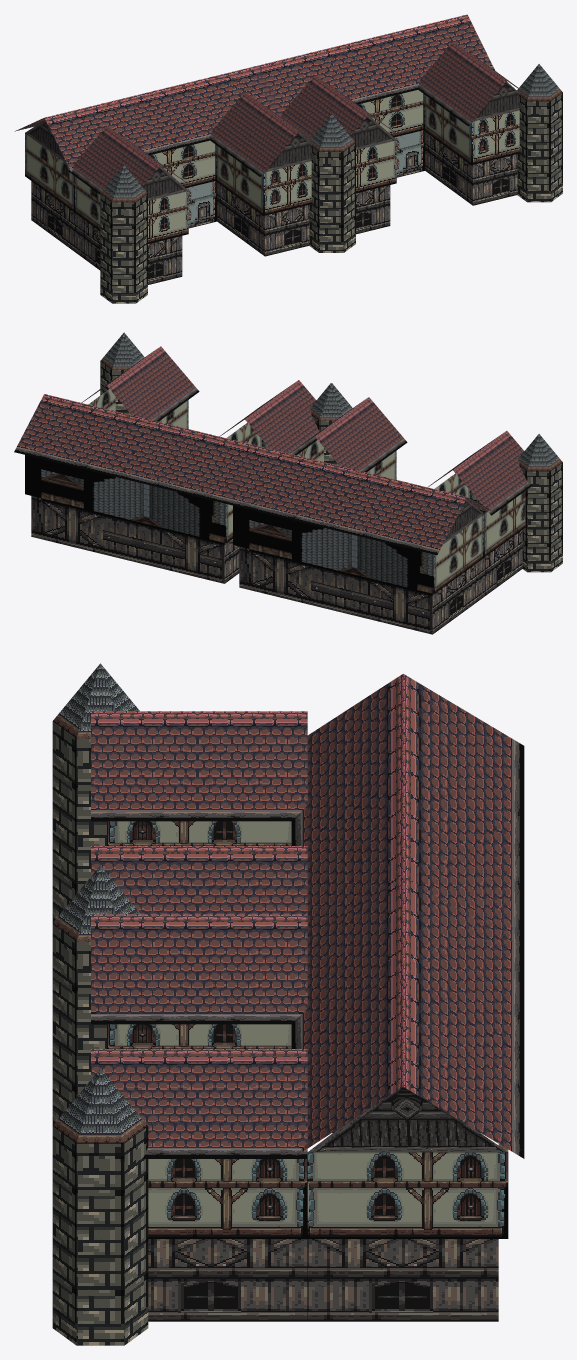
File: manor_cluster.glb
The picture shows the model from 3 angles, top to bottom: view 1: azimuth 30°, elevation 25°; view 2: azimuth 150°, elevation 25°; view 3: azimuth 270°, elevation 25°; orthographic projection. The views are drawn at different scales.
Parts seen in each view (by area): view 1: Roof_BackFront.001, Roof_BackFront, Roof_RightInner.001, Roof_RightInner, Roof_LeftOuter.001, Roof_LeftOuter, TowerR_Wall_3, TowerL_Wall_3.001, TowerR_Wall_3.001, Upper_BackLeft.001, Upper_RightFront, Upper_RightFront.001 (+31 smaller); view 2: Roof_BackRear.001, Roof_BackRear, Upper_Back, Upper_Back.001, Ground_Back.001, Ground_Back, Roof_RightInner.001, Roof_RightInner, Roof_LeftOuter.001, Roof_LeftOuter, TowerL_Wall_1.001, Upper_BackLeft.001 (+13 smaller); view 3: Roof_BackRear, Roof_BackRear.001, Roof_LeftInner, Roof_LeftInner.001, Roof_BackFront, Roof_BackFront.001, Roof_RightOuter, Upper_BackRight, Ground_BackRight, Roof_RightOuter.001, Ground_RightOuter, Upper_RightOuter (+17 smaller).
Boxes of the visible parts, x1,y1,x2,y2 form: Roof_BackFront.001: (44, 65, 282, 173); Roof_BackFront: (252, 14, 494, 116); Roof_RightInner.001: (210, 92, 298, 176); Roof_RightInner: (418, 41, 506, 126); Roof_LeftOuter.001: (68, 126, 160, 194); Roof_LeftOuter: (281, 75, 368, 140); TowerR_Wall_3: (527, 101, 550, 202); TowerL_Wall_3.001: (112, 202, 135, 303); TowerR_Wall_3.001: (319, 152, 342, 252); Upper_BackLeft.001: (25, 133, 74, 212); Upper_RightFront: (471, 110, 519, 164); Upper_RightFront.001: (263, 161, 311, 215); Roof_BackRear.001: (223, 445, 467, 555); Roof_BackRear: (14, 394, 253, 504); Upper_Back: (25, 455, 226, 543); Upper_Back.001: (233, 505, 434, 593); Ground_Back.001: (239, 546, 432, 634); Ground_Back: (31, 496, 224, 583); Roof_RightInner.001: (315, 397, 407, 472); Roof_RightInner: (107, 346, 199, 421); Roof_LeftOuter.001: (453, 431, 532, 515); Roof_LeftOuter: (245, 380, 319, 455); TowerL_Wall_1.001: (527, 471, 550, 572); Upper_BackLeft.001: (434, 514, 484, 593); Roof_BackRear: (403, 877, 524, 1158); Roof_BackRear.001: (403, 674, 524, 948); Roof_LeftInner: (91, 914, 307, 1024); Roof_LeftInner.001: (91, 711, 307, 821); Roof_BackFront: (291, 877, 403, 1157); Roof_BackFront.001: (291, 674, 403, 937); Roof_RightOuter: (91, 1049, 307, 1158); Upper_BackRight: (307, 1152, 508, 1238); Ground_BackRight: (307, 1239, 498, 1321); Roof_RightOuter.001: (91, 846, 307, 914); Ground_RightOuter: (148, 1239, 307, 1321); Upper_RightOuter: (148, 1159, 307, 1238).
Size of the model in its own units: 32.67 by 9 by 14.8.
Materials: 2 (2 with a texture image).
